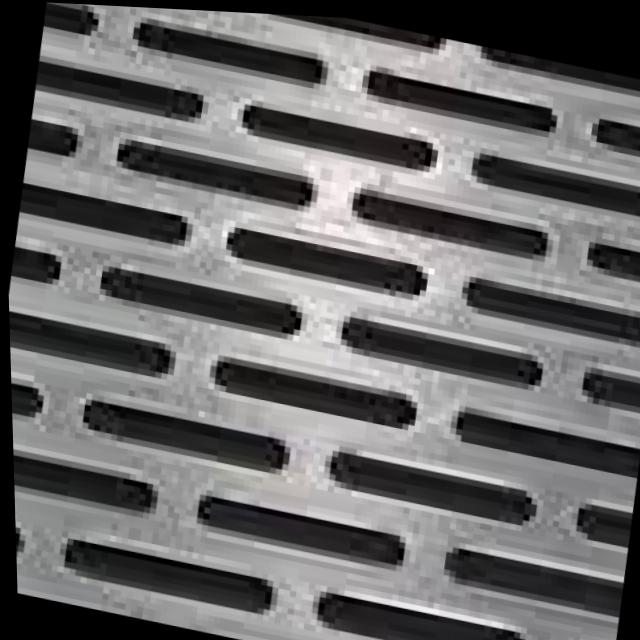metal-plates: (8, 3, 640, 640)
